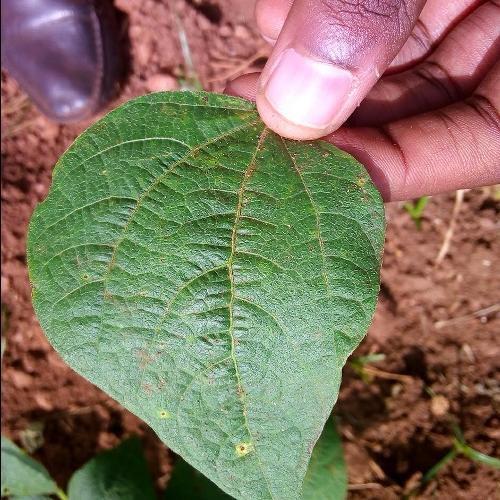hawar: (271, 172, 371, 278), (152, 95, 232, 217), (132, 350, 181, 424), (225, 376, 261, 462), (78, 266, 94, 285)
